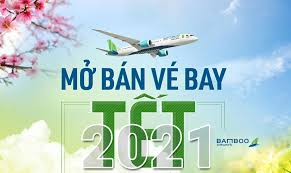maybay_dansu: (87, 26, 199, 61)
